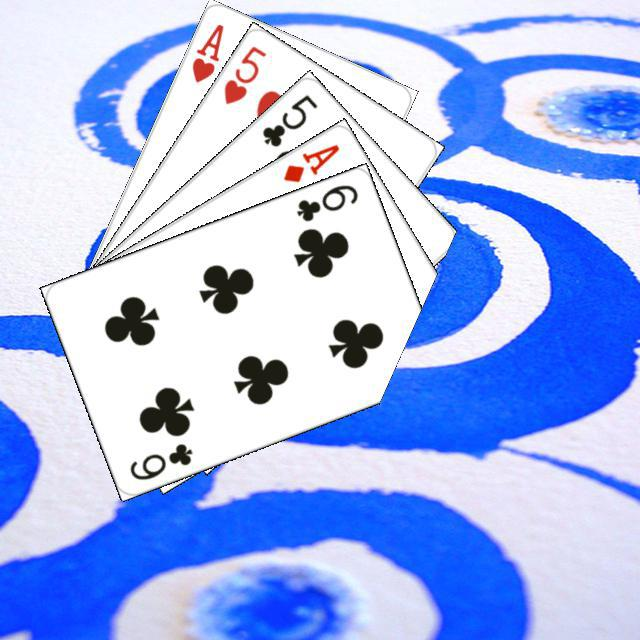5c: (257, 89, 319, 149)
5h: (218, 41, 268, 107)
6c: (124, 438, 195, 482), (291, 179, 360, 224)
Ad: (278, 139, 342, 185)
Ah: (186, 19, 225, 85)
